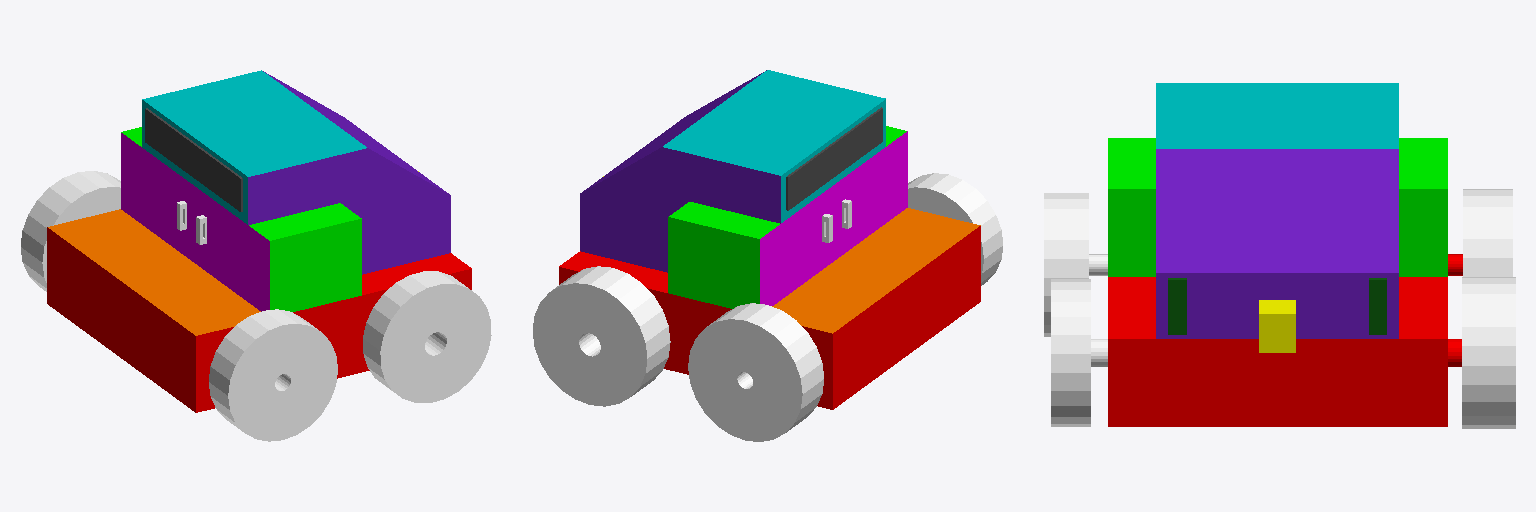
robot.urdf — robot1:
<?xml version="1.0"?>
<robot name="robot1">
	<link name="base_link">
	<visual>
		<geometry>
			<mesh scale="1.0 1.0 1.0"
	filename="package://simulation/URDF/Scipio.dae"/>
		</geometry>
		<origin xyz="0 0 0"/>
	</visual>
	</link>
</robot>

--- What the picture shows (computed from the rendered views, not written in the file) ---
Views: 3 orthographic renders of the robot side by side, from view 1: azimuth 30°, elevation 25°; view 2: azimuth 150°, elevation 25°; view 3: azimuth 270°, elevation 25°.
Robot: robot1 — 1 links, 0 joints (none); root link base_link; default pose: all joints at 0.
Visible links, largest first — view 1: base_link; view 2: base_link; view 3: base_link.
Link boxes in pixels (x1,y1,x2,y2): base_link: (21,70,491,441); base_link: (533,70,1002,441); base_link: (1044,83,1515,428).
Size in the robot's own frame: 0.8303 by 0.9843 by 0.6013 metres.
Meshes: 1 distinct files referenced, 1 mesh visuals loaded (1 Collada DAE).
